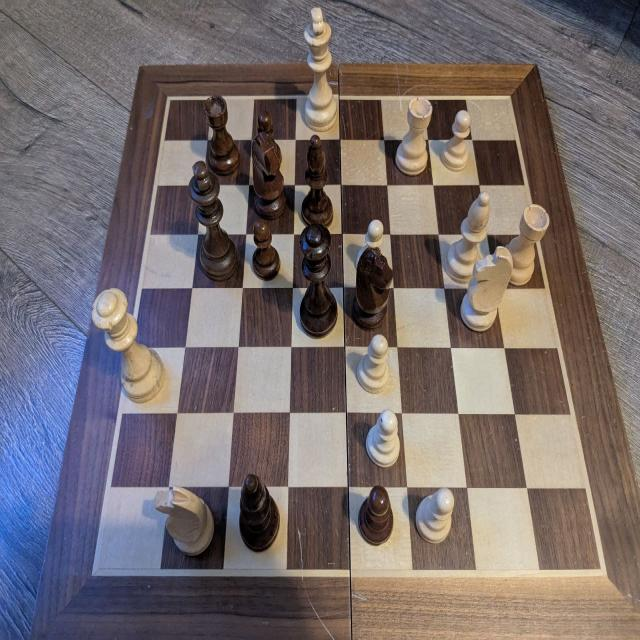black_bishop: (238, 473, 280, 550), (301, 134, 332, 225)
black_king: (188, 159, 238, 280)
black_knight: (353, 228, 392, 329), (251, 116, 285, 219)
black_pawn: (357, 485, 394, 546), (252, 217, 280, 280), (256, 110, 282, 166)
black_queen: (302, 227, 338, 335)
black_rook: (203, 94, 239, 176)
white_bishop: (445, 192, 491, 282)
white_king: (304, 7, 338, 134)
white_knight: (460, 245, 512, 329), (156, 484, 216, 555)
white_pawn: (415, 485, 455, 544), (365, 412, 399, 469), (441, 109, 472, 171), (357, 335, 390, 393), (357, 218, 383, 270)
white_queen: (90, 287, 164, 402)
white_rook: (502, 203, 550, 285), (394, 95, 430, 176)
